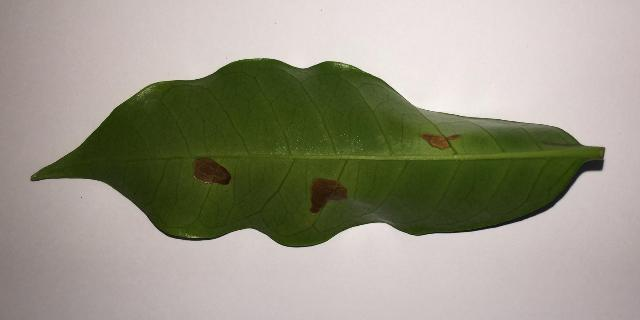cercospora: (310, 178, 347, 213), (193, 158, 231, 185), (421, 133, 460, 149)
